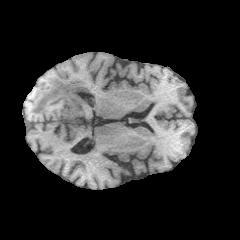glioma: (30, 77, 91, 115)
